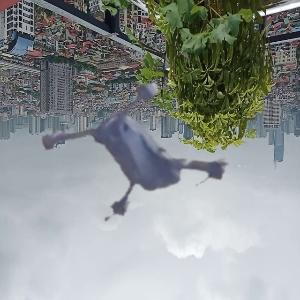drone: (62, 45, 267, 250)
